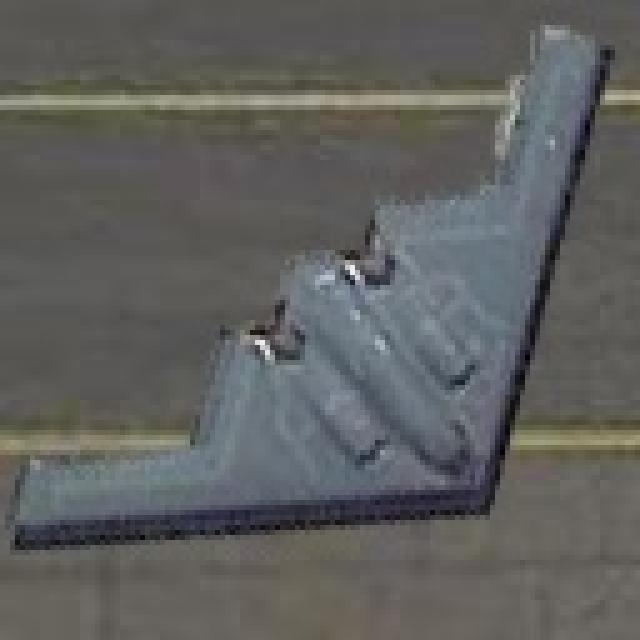B-2_TopDown: (5, 15, 625, 555)
